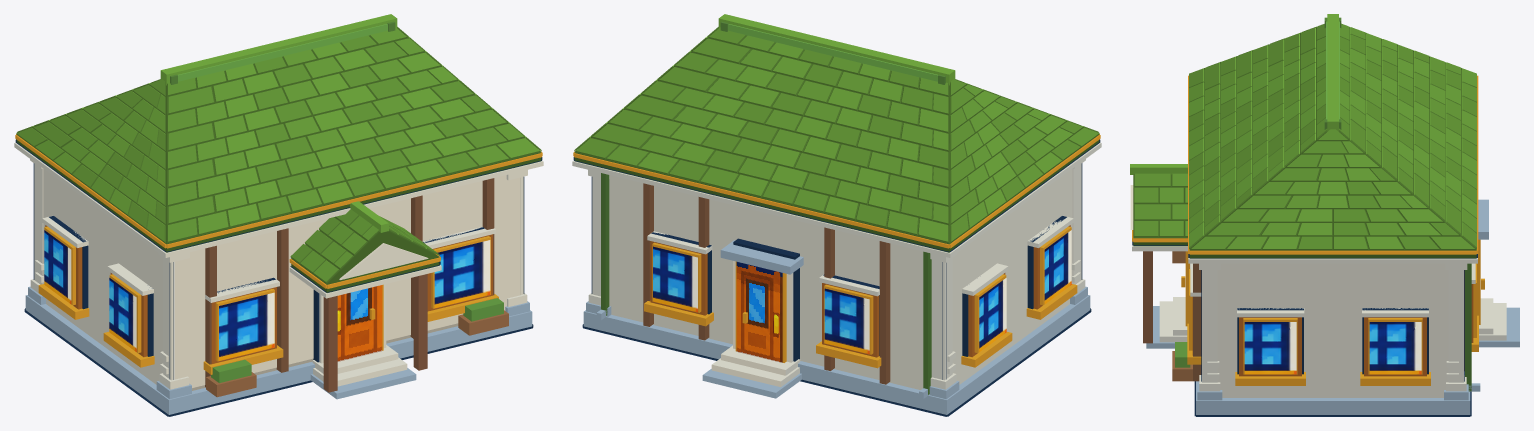
3 views of the same model, side by side, from view 1: azimuth 30°, elevation 25°; view 2: azimuth 150°, elevation 25°; view 3: azimuth 270°, elevation 25° (orthographic). The views are drawn at different scales.
Parts seen in each view (by area): view 1: H08 长檐木梁屋; view 2: H08 长檐木梁屋; view 3: H08 长檐木梁屋.
Part boxes in pixels (x1,y1,x2,y2): H08 长檐木梁屋: [14, 14, 543, 416]; H08 长檐木梁屋: [572, 14, 1101, 416]; H08 长檐木梁屋: [1130, 14, 1519, 416].
Bounding box in the file's own units: 7.24 × 5.03 × 6.74.
Materials: 2 (1 with a texture image).
